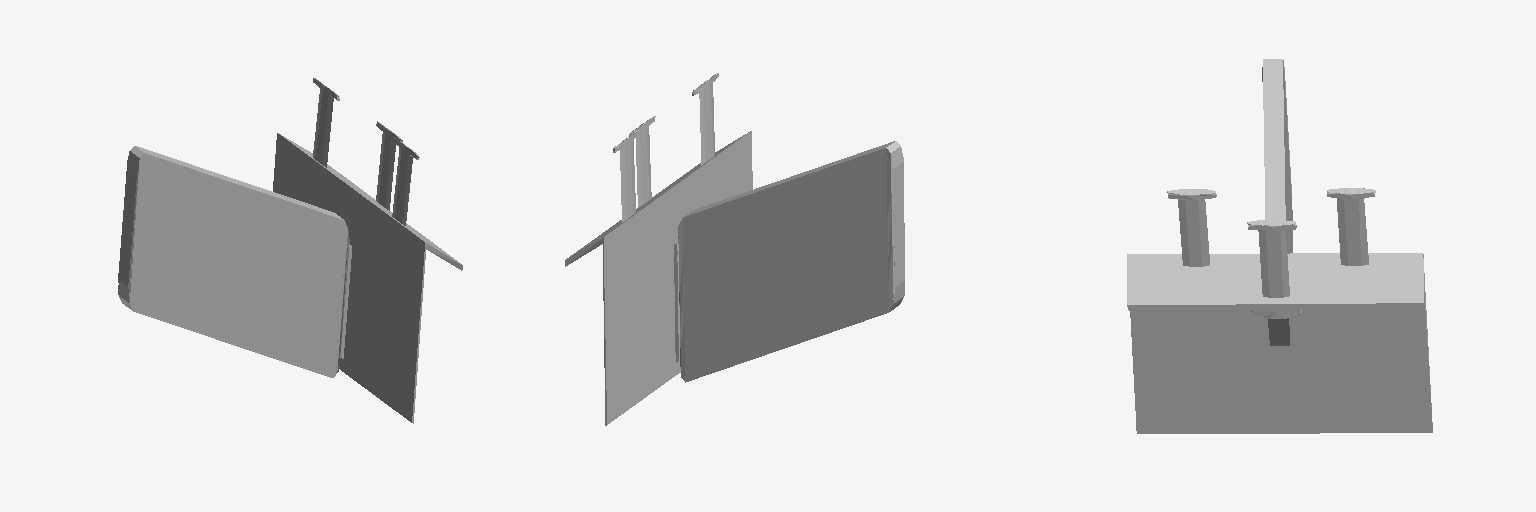
The model's file is mesh_save.obj.
3 views of the same model, side by side, from view 1: azimuth 30°, elevation 25°; view 2: azimuth 150°, elevation 25°; view 3: azimuth 270°, elevation 25° (orthographic).
Bounding box in the file's own units: 1 × 1 × 1.